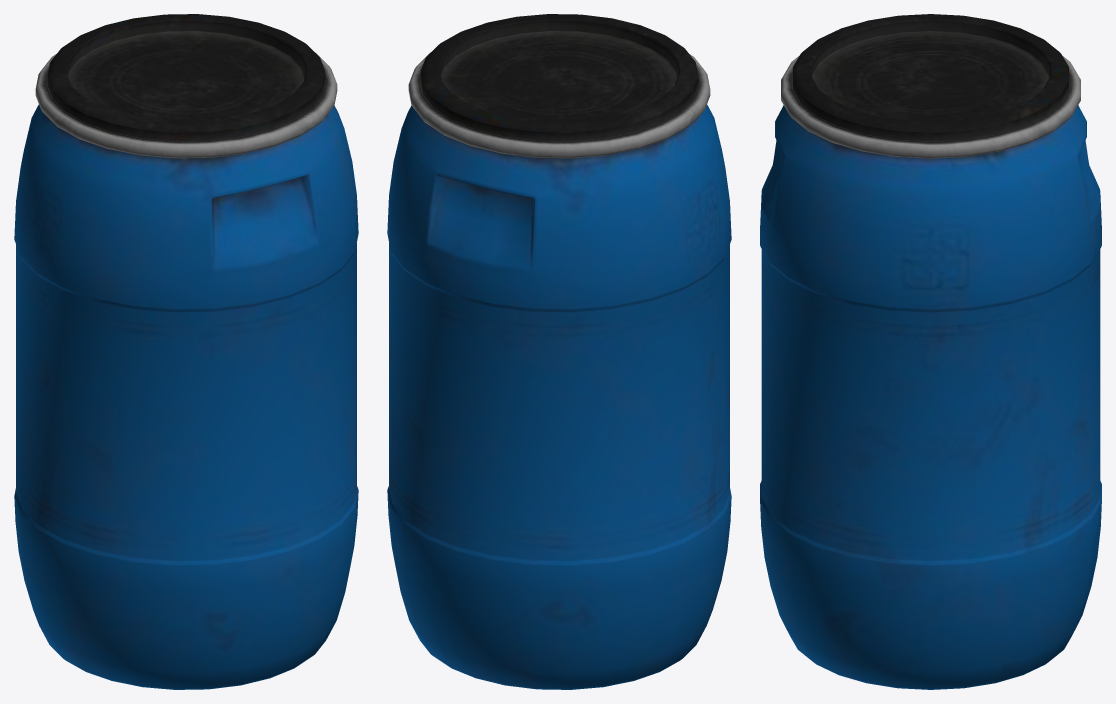
File: barrel_02.glb
3 renders of one model, left to right at view 1: azimuth 30°, elevation 25°; view 2: azimuth 150°, elevation 25°; view 3: azimuth 270°, elevation 25°, orthographic.
Visible parts, largest first — view 1: Barrel_02; view 2: Barrel_02; view 3: Barrel_02.
Part boxes in pixels (x1=…): Barrel_02: x1=14, y1=14, x2=358, y2=689; Barrel_02: x1=387, y1=14, x2=731, y2=689; Barrel_02: x1=760, y1=14, x2=1101, y2=689.
Size of the model in its own units: 0.4882 by 0.88 by 0.4846.
1 material, 1 textured.
